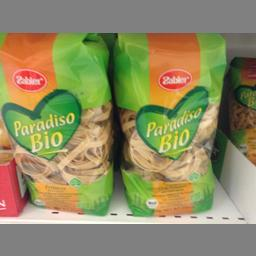pasta: (0, 33, 113, 216), (113, 33, 225, 216)
